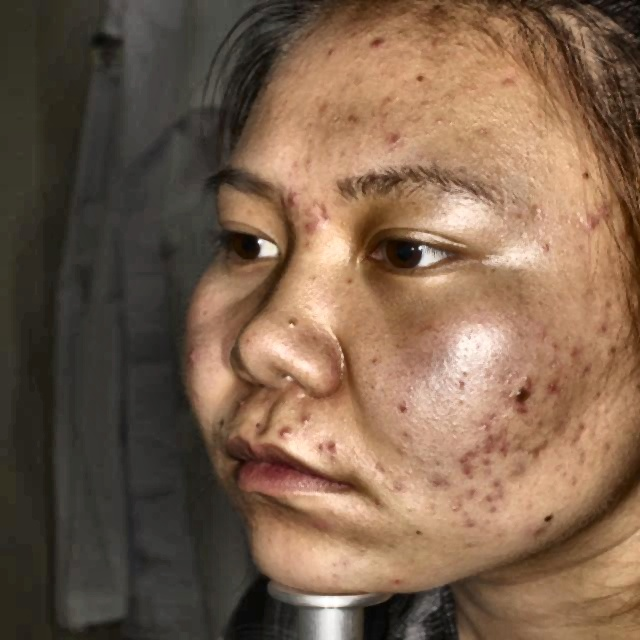papule: (308, 96, 358, 130), (273, 180, 316, 217), (310, 43, 350, 75), (590, 195, 632, 224), (175, 342, 201, 377), (568, 198, 594, 232), (293, 408, 322, 437), (352, 27, 383, 52), (376, 130, 402, 159), (230, 392, 256, 417), (309, 509, 333, 536), (309, 197, 338, 219), (320, 435, 344, 461), (264, 418, 288, 442), (527, 520, 550, 544), (530, 431, 552, 456), (566, 417, 591, 438), (473, 488, 502, 506), (303, 215, 323, 241), (474, 435, 494, 461), (594, 316, 614, 341), (456, 513, 478, 535), (481, 476, 511, 492), (509, 400, 532, 420), (601, 336, 624, 356), (488, 497, 507, 519), (497, 69, 516, 90), (547, 368, 560, 397), (486, 425, 511, 438), (448, 471, 475, 482), (448, 448, 470, 461), (491, 438, 506, 456), (566, 338, 584, 352)
